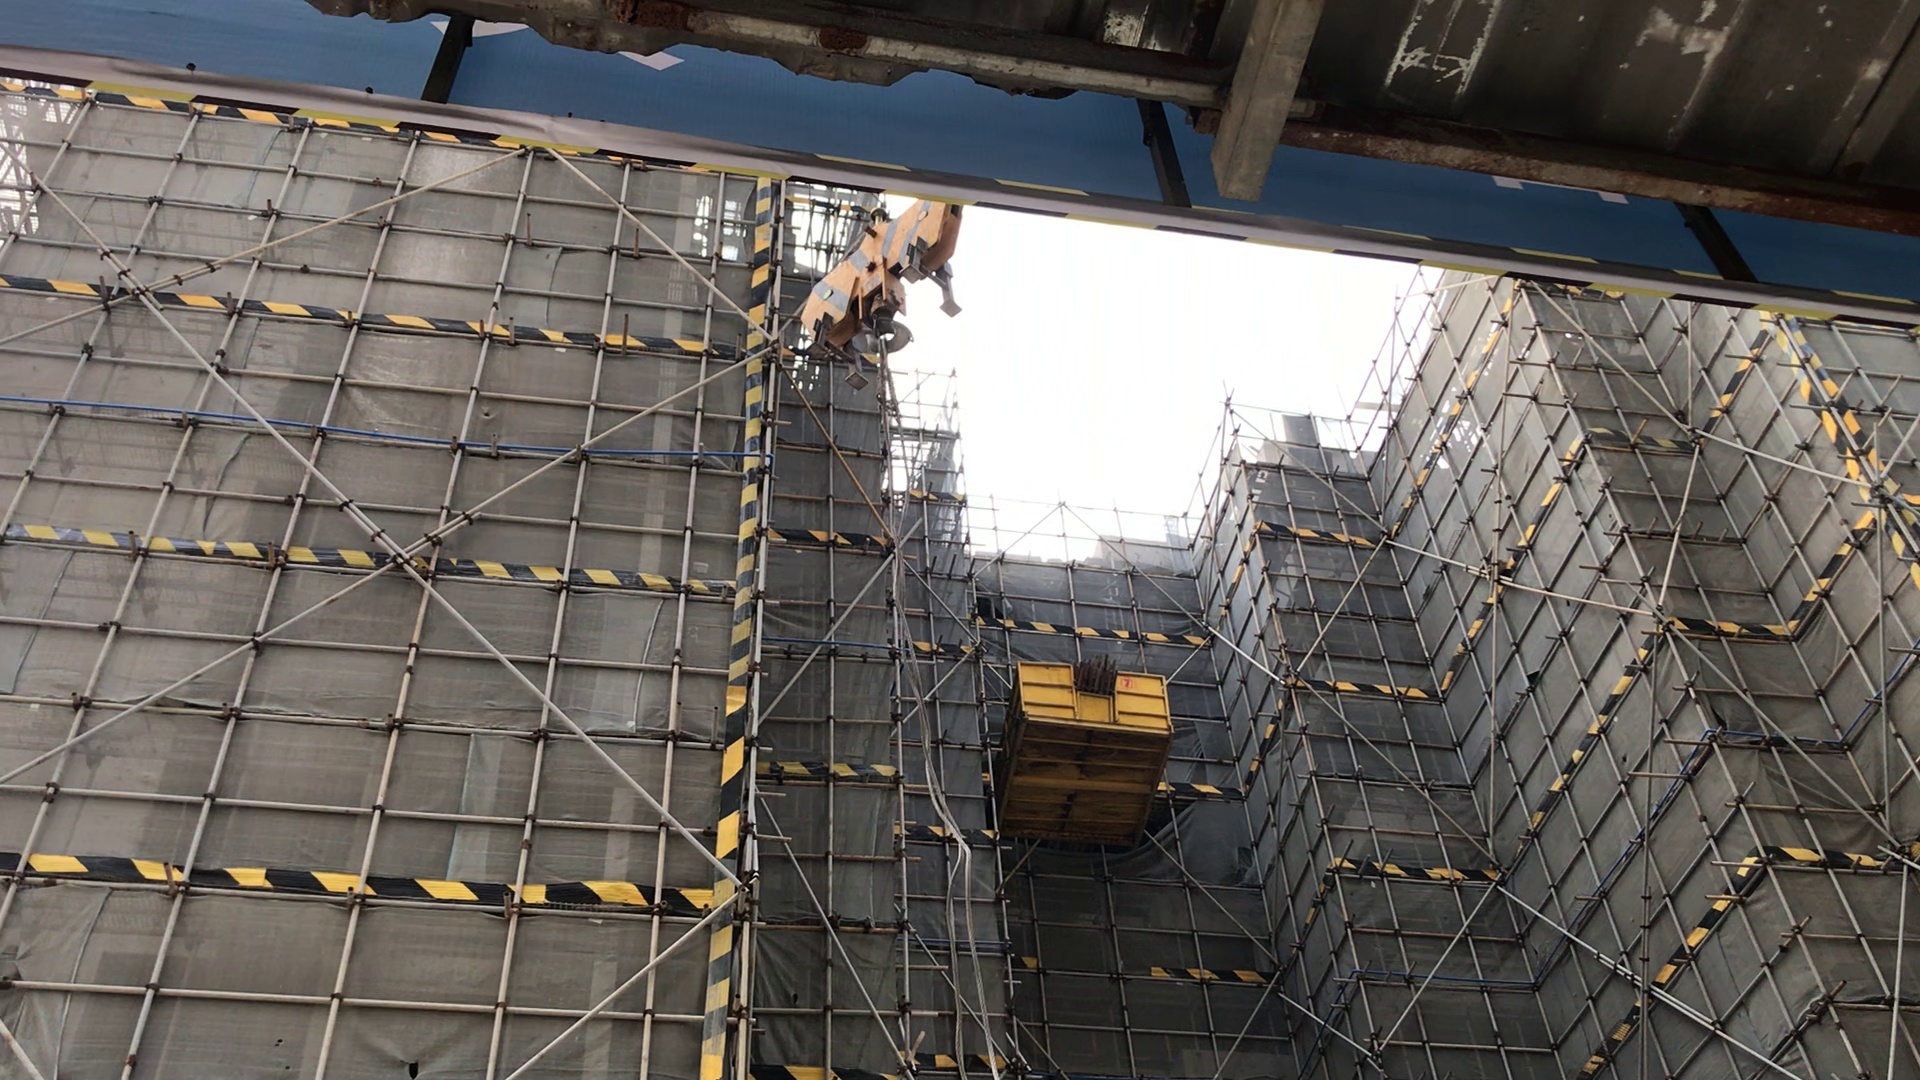hook: (764, 193, 1001, 355)
